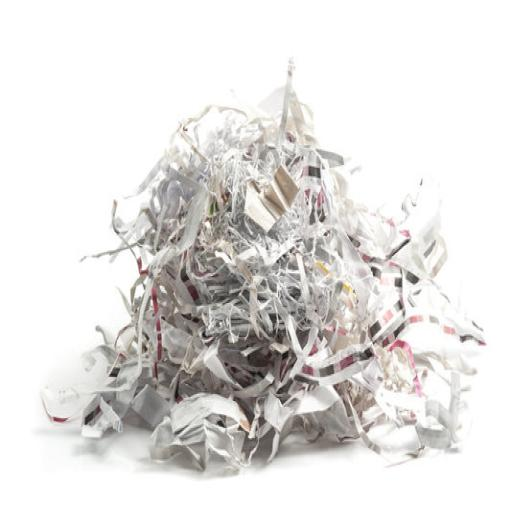Kertas: (45, 55, 488, 475)
